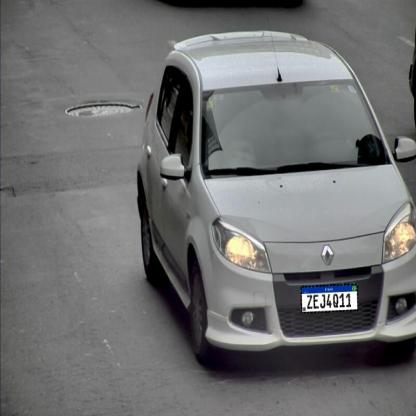PlacaM: (301, 284, 358, 314)
